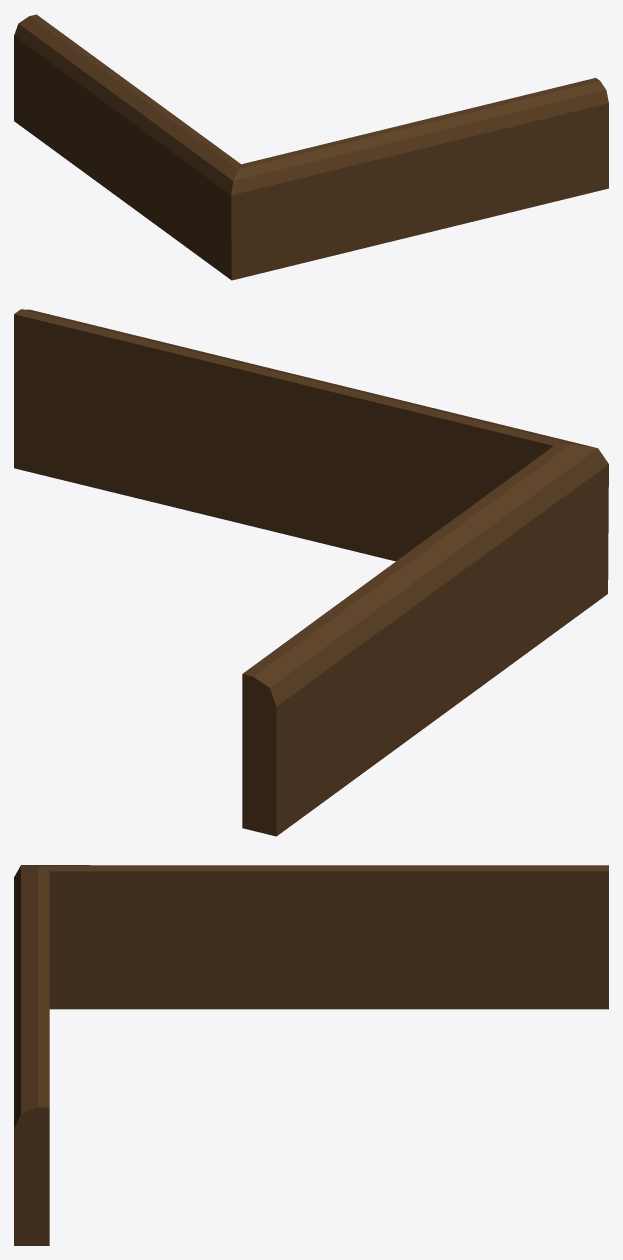
The model's file is SkirtingCornerOutside.fbx.
The picture shows the model from 3 angles, top to bottom: view 1: azimuth 30°, elevation 25°; view 2: azimuth 150°, elevation 25°; view 3: azimuth 270°, elevation 25°; orthographic projection. The views are drawn at different scales.
Parts seen in each view (by area): view 1: CornerWall; view 2: CornerWall; view 3: CornerWall.
Part boxes in pixels (x1,y1,x2,y2): CornerWall: (14, 14, 608, 280); CornerWall: (14, 309, 608, 836); CornerWall: (14, 865, 608, 1245).
Bounding box in the file's own units: 117 × 30 × 117.
